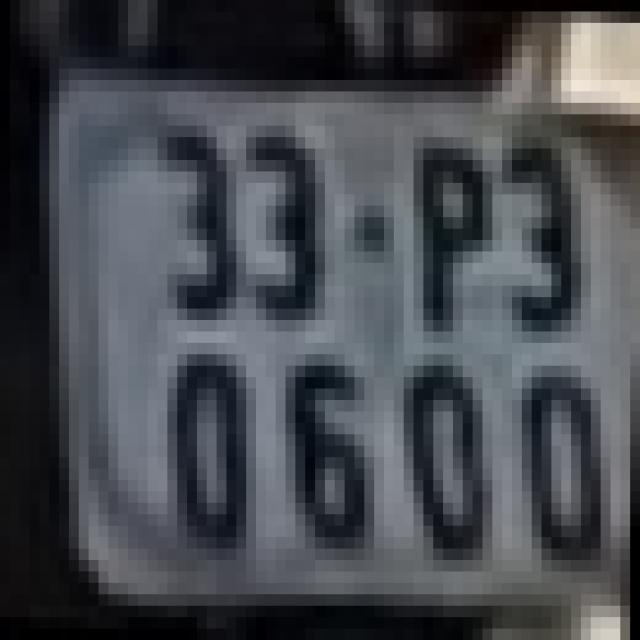0: (167, 354, 256, 549), (404, 366, 492, 560), (522, 366, 610, 560)
3: (502, 137, 581, 332), (246, 126, 325, 320), (158, 126, 236, 320)
6: (286, 354, 374, 549)
P: (413, 137, 492, 332)
